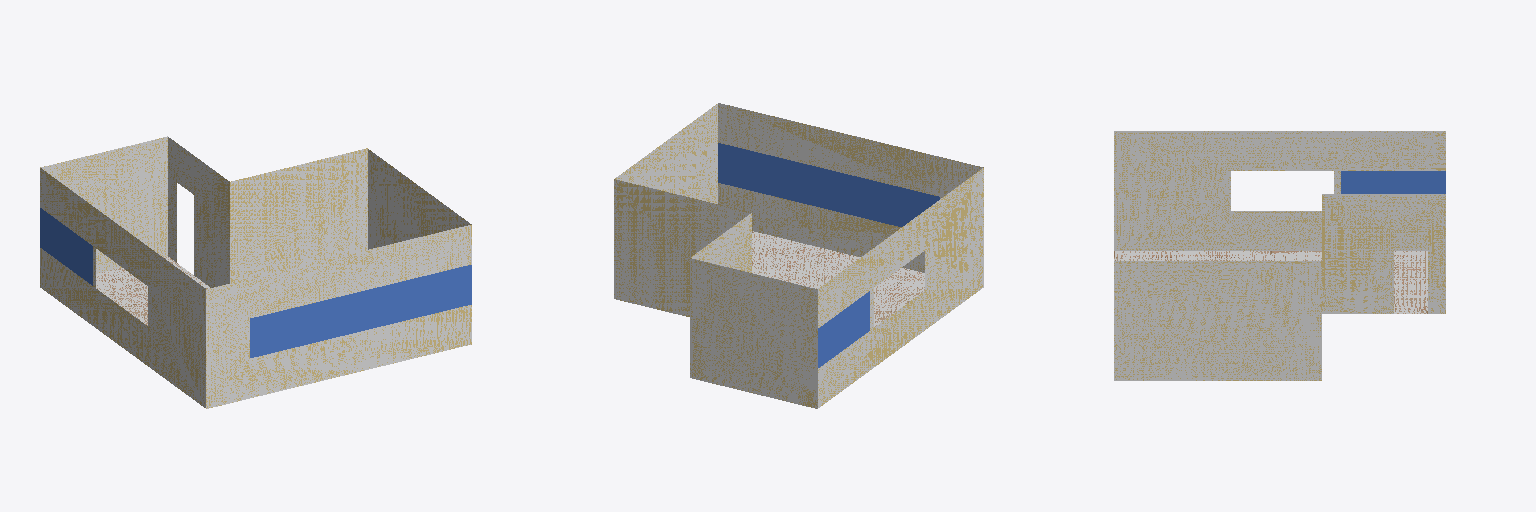
3 views of the same model, side by side, from view 1: azimuth 30°, elevation 25°; view 2: azimuth 150°, elevation 25°; view 3: azimuth 270°, elevation 25° (orthographic).
Visible parts, largest first — view 1: Mesh1 LAB004 Model; view 2: Mesh1 LAB004 Model; view 3: Mesh1 LAB004 Model.
Part boxes in pixels (bbox=[...]): Mesh1 LAB004 Model: bbox=[40, 136, 471, 408]; Mesh1 LAB004 Model: bbox=[614, 103, 983, 408]; Mesh1 LAB004 Model: bbox=[1114, 131, 1445, 380].
Bounding box in the file's own units: 6.93 × 3 × 7.52.
Materials: 5 (1 with a texture image).